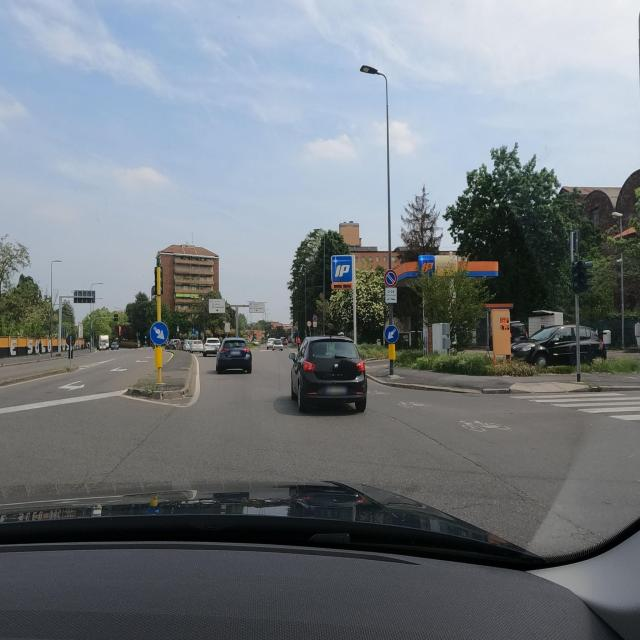car: (290, 334, 368, 414), (509, 323, 606, 367), (215, 336, 252, 374), (509, 320, 527, 343), (202, 336, 222, 356), (190, 338, 204, 353), (272, 339, 283, 350), (172, 338, 182, 350), (184, 339, 192, 351), (110, 341, 119, 350)
